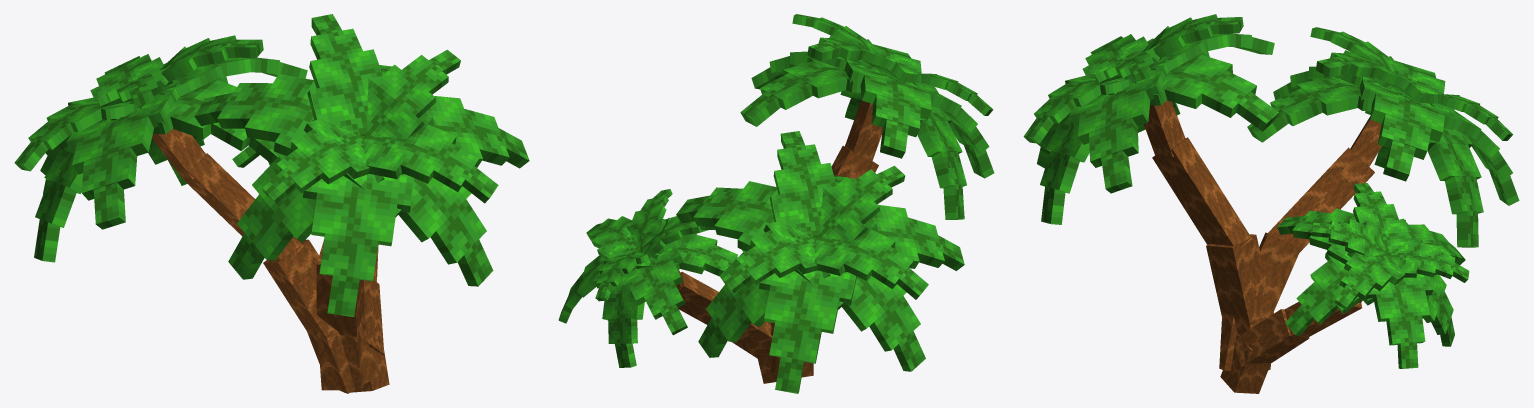
The model's file is Tree.fbx.
3 renders of one model, left to right at view 1: azimuth 30°, elevation 25°; view 2: azimuth 150°, elevation 25°; view 3: azimuth 270°, elevation 25°, orthographic. The views are drawn at different scales.
Visible parts, largest first — view 1: Cube.002, Cube.008, Cube.004, Cube.001, Cube.005; view 2: Cube.008, Cube.002, Cube.006, Cube.005, Cube.001; view 3: Cube.002, Cube.008, Cube.006, Cube.001, Cube.004, Cube.005.
Boxes of the visible parts, x1=… form: Cube.002: x1=194, y1=14, x2=529, y2=316; Cube.008: x1=14, y1=35, x2=307, y2=262; Cube.004: x1=152, y1=129, x2=380, y2=393; Cube.001: x1=316, y1=240, x2=364, y2=390; Cube.005: x1=344, y1=245, x2=389, y2=392; Cube.008: x1=676, y1=131, x2=964, y2=393; Cube.002: x1=740, y1=14, x2=994, y2=219; Cube.006: x1=558, y1=189, x2=737, y2=367; Cube.005: x1=676, y1=270, x2=777, y2=383; Cube.001: x1=770, y1=99, x2=882, y2=377; Cube.002: x1=1023, y1=14, x2=1278, y2=224; Cube.008: x1=1247, y1=27, x2=1519, y2=247; Cube.006: x1=1277, y1=183, x2=1469, y2=368; Cube.001: x1=1143, y1=100, x2=1273, y2=370; Cube.004: x1=1223, y1=116, x2=1381, y2=371; Cube.005: x1=1220, y1=300, x2=1362, y2=393.
Size of the model in its own units: 719 by 639 by 816.
